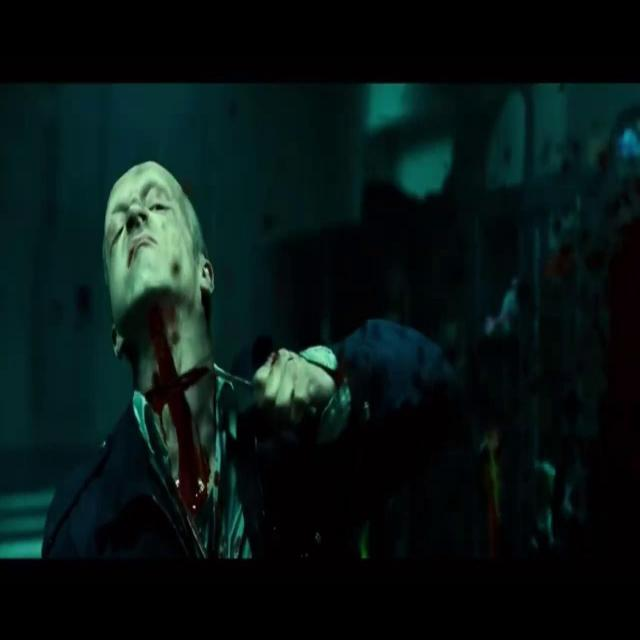flood: (150, 328, 210, 526)
